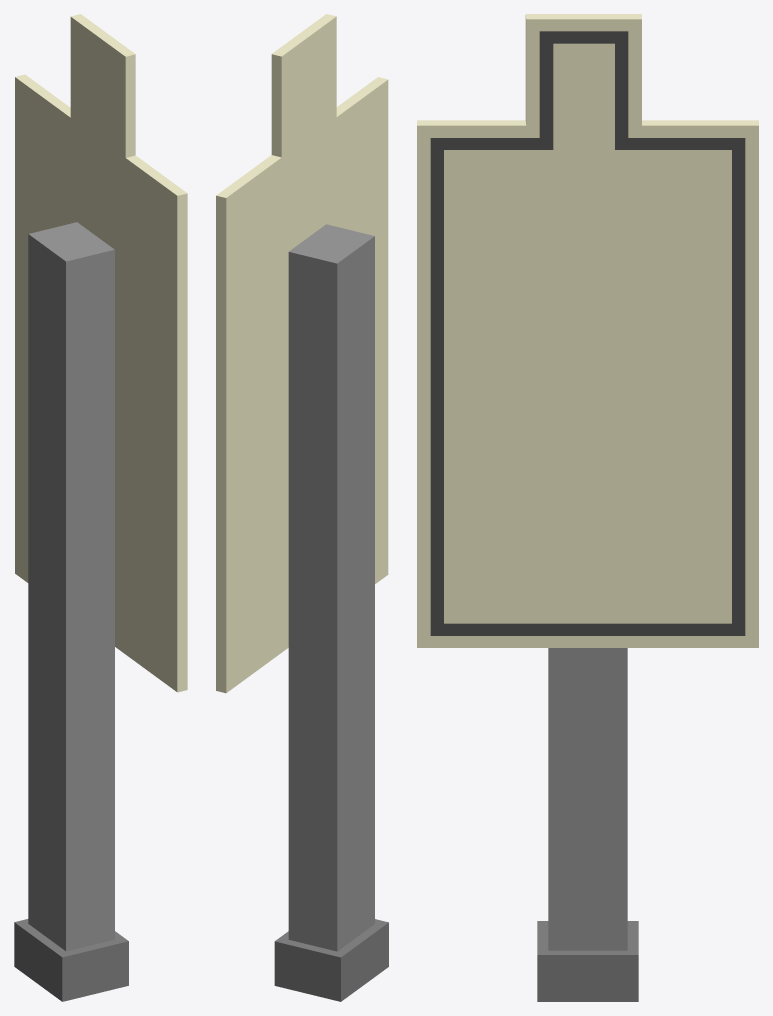
File: target2.fbx
3 renders of one model, left to right at view 1: azimuth 30°, elevation 25°; view 2: azimuth 150°, elevation 25°; view 3: azimuth 270°, elevation 25°, orthographic. The views are drawn at different scales.
Parts seen in each view (by area): view 1: Cube_4; view 2: Cube_4; view 3: Cube_4.
Part boxes in pixels (box(x1,y1,x2,y2)): Cube_4: box(14, 14, 187, 1001); Cube_4: box(216, 14, 388, 1001); Cube_4: box(417, 14, 758, 1001).
Bounding box in the file's own units: 8.59 × 113 × 35.52.
